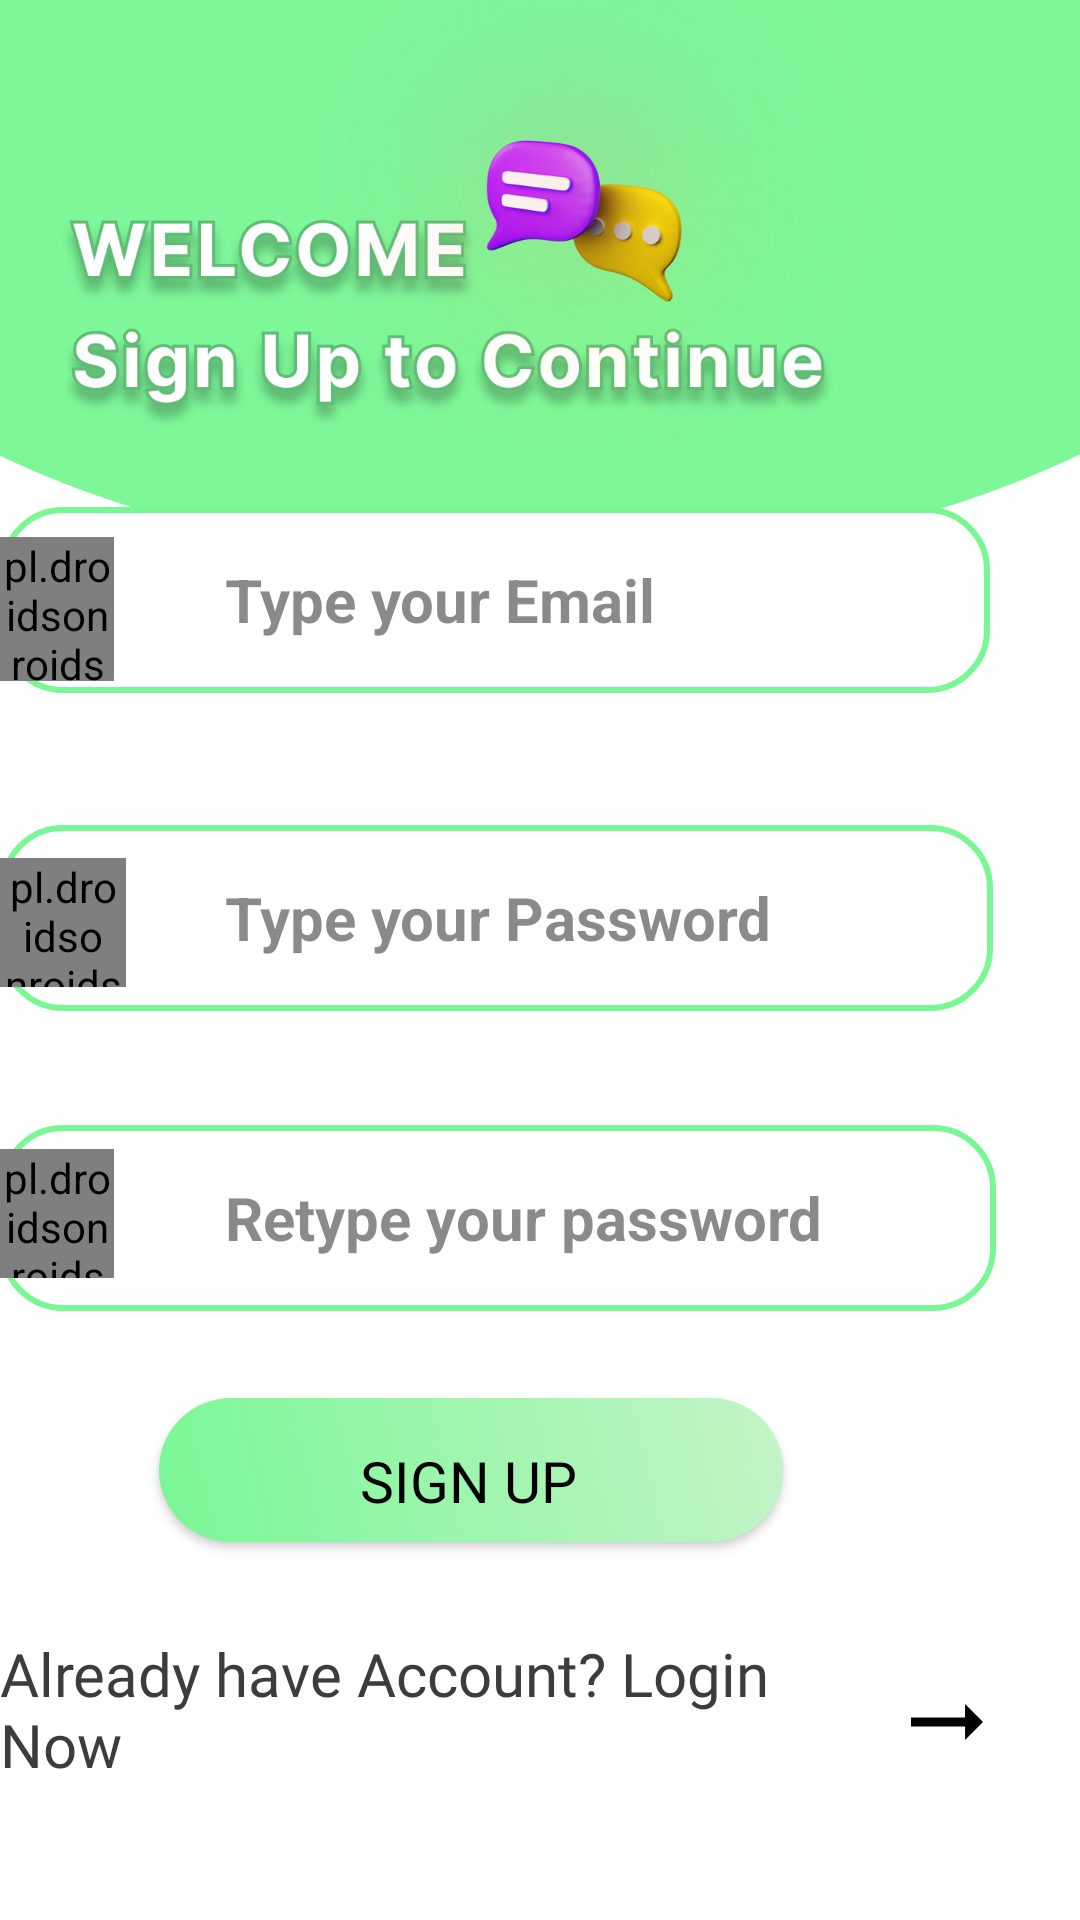

Named icons in this screenshot (1080 × 1920) and their bounding boxes, (x1, y1, x2, y2):
arrow right: (911, 1704, 983, 1740)
